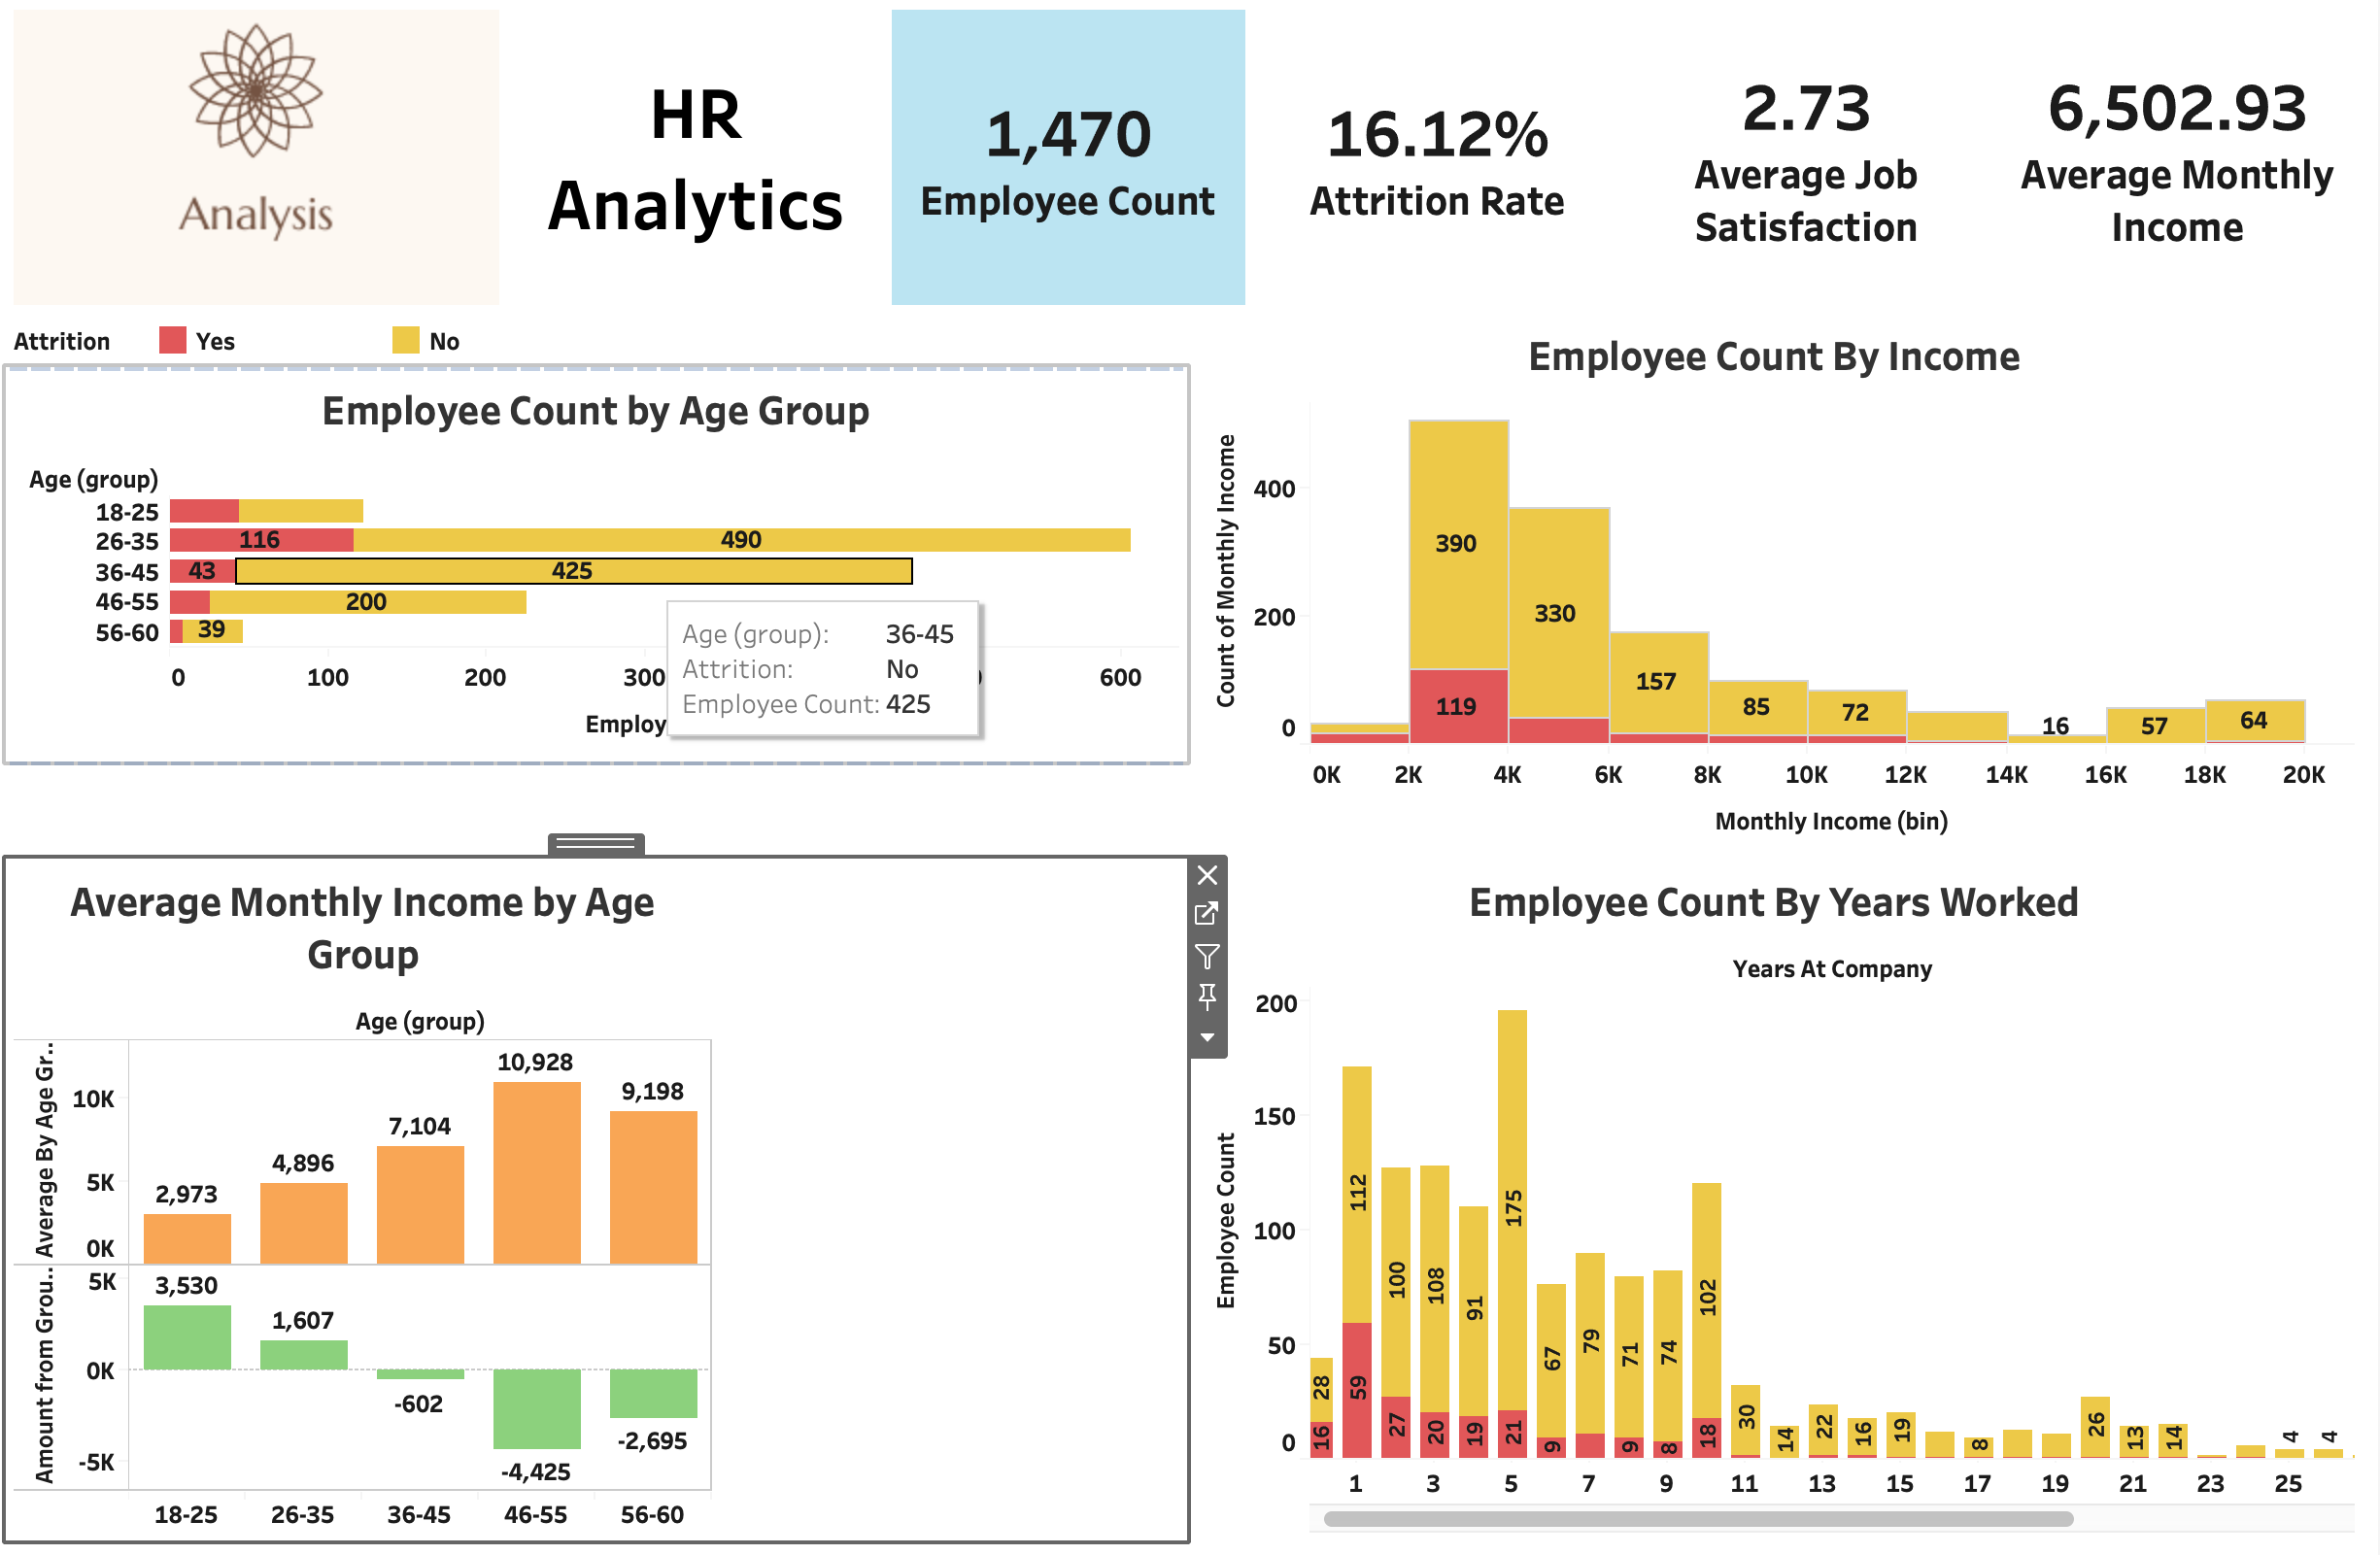

This screenshot's page, from the dashboard's own definition file:
{"tool":"tableau","page":{"name":"Dashboard 1","canvas":[1000,1000],"units":"permille","ordinal":0},"visuals":[{"type":"worksheet","box":[0,0,1000,1000]},{"type":"worksheet","param":"horz","box":[6.5,9.9,987,980.2]},{"type":"worksheet","param":"vert","box":[6.5,9.9,987,980.2]},{"type":"worksheet","box":[6.5,9.9,987,980.2]},{"type":"worksheet","box":[6.5,9.9,987,198.3]},{"type":"worksheet","param":"horz","box":[6.5,9.9,367.8,198.3]},{"type":"worksheet","param":"horz","box":[6.5,9.9,367.8,198.3]},{"type":"worksheet","param":"Image/Analysis-2.png","box":[6.5,9.9,209.9,198.3]},{"type":"worksheet","box":[216.4,9.9,157.8,198.3]},{"type":"worksheet","param":"horz","box":[374.3,9.9,619.2,198.3]},{"type":"worksheet","title":"Total Employee Count","mark":"Automatic","box":[374.3,9.9,154.8,198.3]},{"type":"worksheet","title":"Attrition Rate","mark":"Automatic","box":[529.1,9.9,154.8,198.3]},{"type":"worksheet","title":"Job Satisfaction","mark":"Automatic","box":[683.9,9.9,154.8,198.3]},{"type":"worksheet","title":"Average Monthly Income","mark":"Automatic","box":[838.7,9.9,154.8,198.3]},{"type":"worksheet","param":"horz","box":[6.5,208.2,494.6,781.9]},{"type":"worksheet","box":[6.5,208.2,494.6,781.9]},{"type":"worksheet","param":"vert","box":[6.5,208.2,494.6,347.8]},{"type":"worksheet","title":"Employee Count By Age","mark":"Automatic","cols":["EmployeeCount"],"param":"[federated.0tzh6qa0ekatm815ztbuc0g5bpwx].[none:Attrition:nk]","box":[6.5,208.2,494.6,34.6]},{"type":"worksheet","box":[501.1,208.2,492.4,781.9]},{"type":"worksheet","param":"vert","box":[501.1,208.2,492.4,347.8]},{"type":"worksheet","title":"Employee Count By Income","mark":"Automatic","rows":["MonthlyIncome"],"cols":["Monthly Income (bin)"],"box":[501.1,208.2,492.4,347.8]},{"type":"worksheet","title":"Employee Count By Age","mark":"Automatic","cols":["EmployeeCount"],"box":[6.5,242.9,494.6,251.2]},{"type":"worksheet","param":"vert","box":[6.5,556,494.6,434.1]},{"type":"worksheet","title":"Average Income Per Age","mark":"Automatic","rows":["Calculation_540150534611873792","Calculation_540150534613188611"],"box":[6.5,556,494.6,434.1]},{"type":"worksheet","param":"vert","box":[501.1,556,492.4,434.1]},{"type":"worksheet","title":"Employee Count By Years Worked","mark":"Automatic","rows":["EmployeeCount"],"cols":["YearsAtCompany"],"box":[501.1,556,492.4,434.1]}]}

Visuals, with their boxes on the dashboard's canvas, which has no fixed pixel size, in thousandths of its width and height (x1, y1, x2, y2). These are canvas units, not pixel positions in the 2380x1555 screenshot, which may show the page scaled, cropped or inside an application window:
worksheet: l=0, t=0, r=1000, b=1000
worksheet: l=6, t=10, r=994, b=990
worksheet: l=6, t=10, r=994, b=990
worksheet: l=6, t=10, r=994, b=990
worksheet: l=6, t=10, r=994, b=208
worksheet: l=6, t=10, r=374, b=208
worksheet: l=6, t=10, r=374, b=208
worksheet: l=6, t=10, r=216, b=208
worksheet: l=216, t=10, r=374, b=208
worksheet: l=374, t=10, r=994, b=208
"Total Employee Count" worksheet: l=374, t=10, r=529, b=208
"Attrition Rate" worksheet: l=529, t=10, r=684, b=208
"Job Satisfaction" worksheet: l=684, t=10, r=839, b=208
"Average Monthly Income" worksheet: l=839, t=10, r=994, b=208
worksheet: l=6, t=208, r=501, b=990
worksheet: l=6, t=208, r=501, b=990
worksheet: l=6, t=208, r=501, b=556
"Employee Count By Age" worksheet: l=6, t=208, r=501, b=243
worksheet: l=501, t=208, r=994, b=990
worksheet: l=501, t=208, r=994, b=556
"Employee Count By Income" worksheet: l=501, t=208, r=994, b=556
"Employee Count By Age" worksheet: l=6, t=243, r=501, b=494
worksheet: l=6, t=556, r=501, b=990
"Average Income Per Age" worksheet: l=6, t=556, r=501, b=990
worksheet: l=501, t=556, r=994, b=990
"Employee Count By Years Worked" worksheet: l=501, t=556, r=994, b=990
